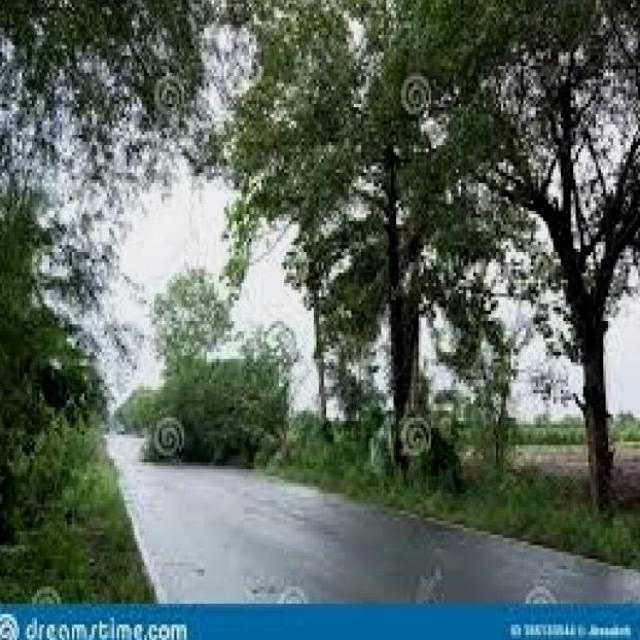fallen_object: (139, 382, 242, 463)
